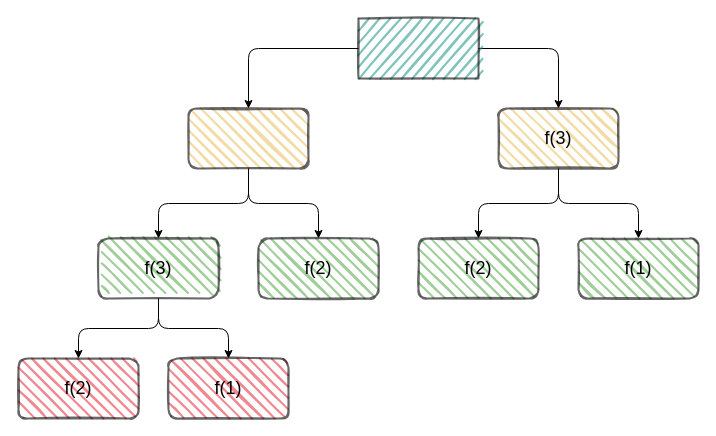
This 716x436 diagram has some shape labels left out. The centre of each missing label's shape, as x and y in pixels:
"f(4)" goes at pixel 248 138.
"f(5)" goes at pixel 418 48.
